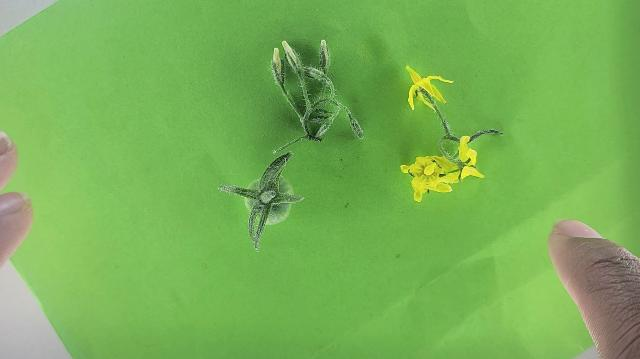Anthesis: (399, 154, 458, 202), (441, 138, 487, 184), (404, 66, 451, 111)
Flower Bud: (270, 47, 287, 92), (283, 42, 298, 67), (321, 39, 328, 61), (273, 47, 280, 64)
Fruit Maturation: (244, 175, 295, 225)
